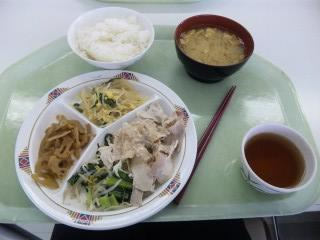rice: (76, 16, 149, 61)
